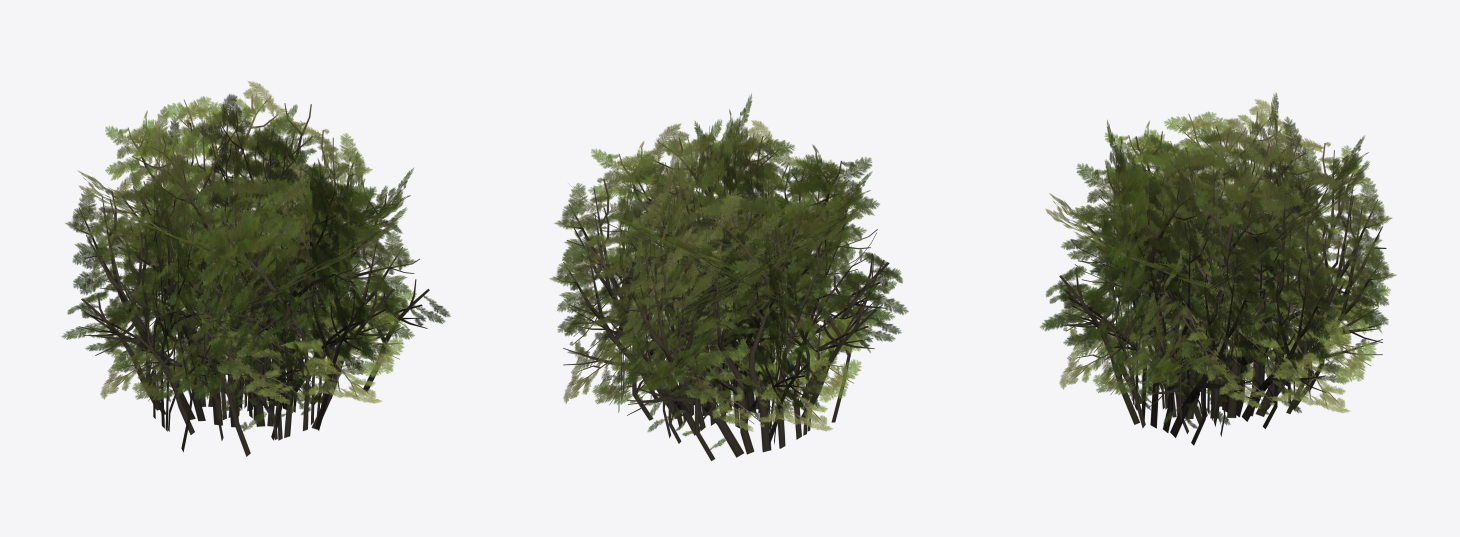
Rendered from shrub4.glb.
3 views of the same model, side by side, from view 1: azimuth 30°, elevation 25°; view 2: azimuth 150°, elevation 25°; view 3: azimuth 270°, elevation 25° (orthographic).
Visible parts, largest first — view 1: Bush-03; view 2: Bush-03; view 3: Bush-03.
Part boxes in pixels (x1,y1,x2,y2): Bush-03: (61, 81, 450, 456); Bush-03: (549, 93, 908, 460); Bush-03: (1040, 93, 1396, 445).
Bounding box in the file's own units: 1.17 × 1.02 × 1.22.
2 materials, 2 textured.
